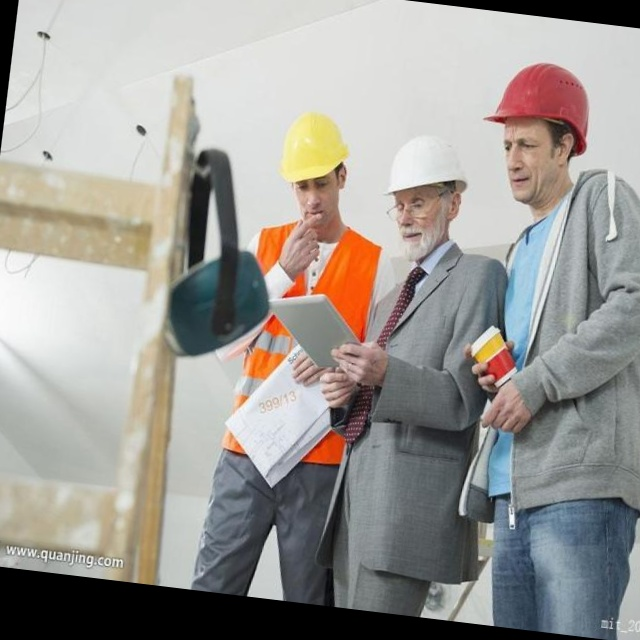Con_Casco: (475, 56, 597, 213), (381, 129, 472, 241), (274, 109, 352, 234)
Sin_Chaleco: (348, 242, 508, 513)
